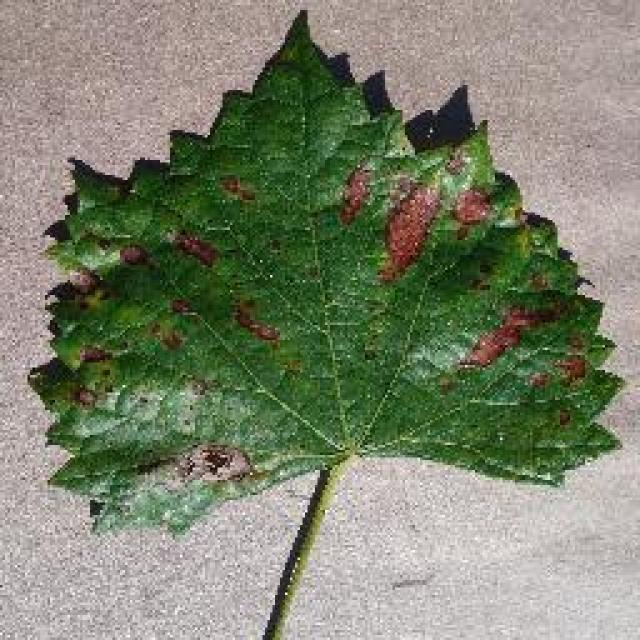Black_Measles: (37, 19, 640, 552)
